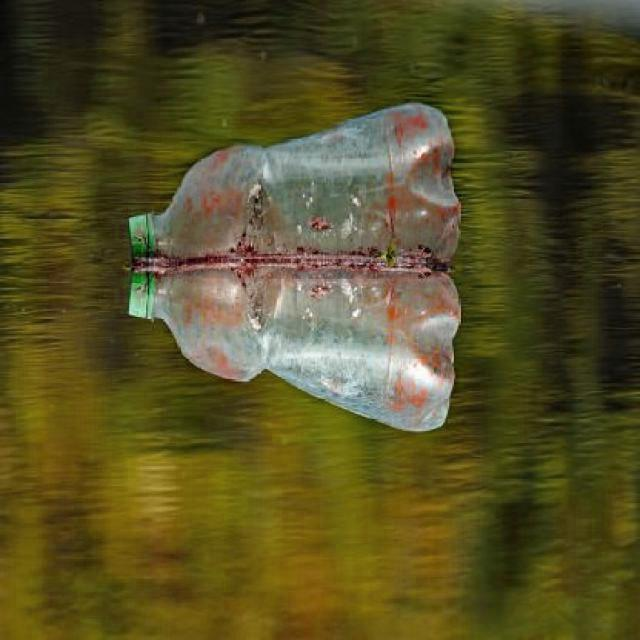Plastic: (122, 263, 458, 434)
